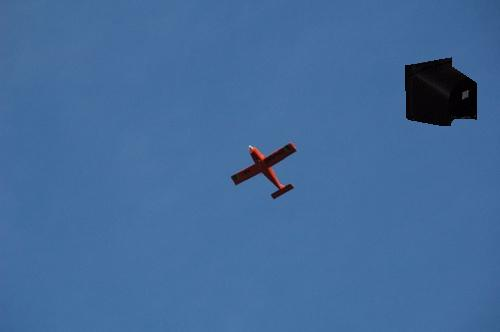tampered: (406, 58, 477, 126)
